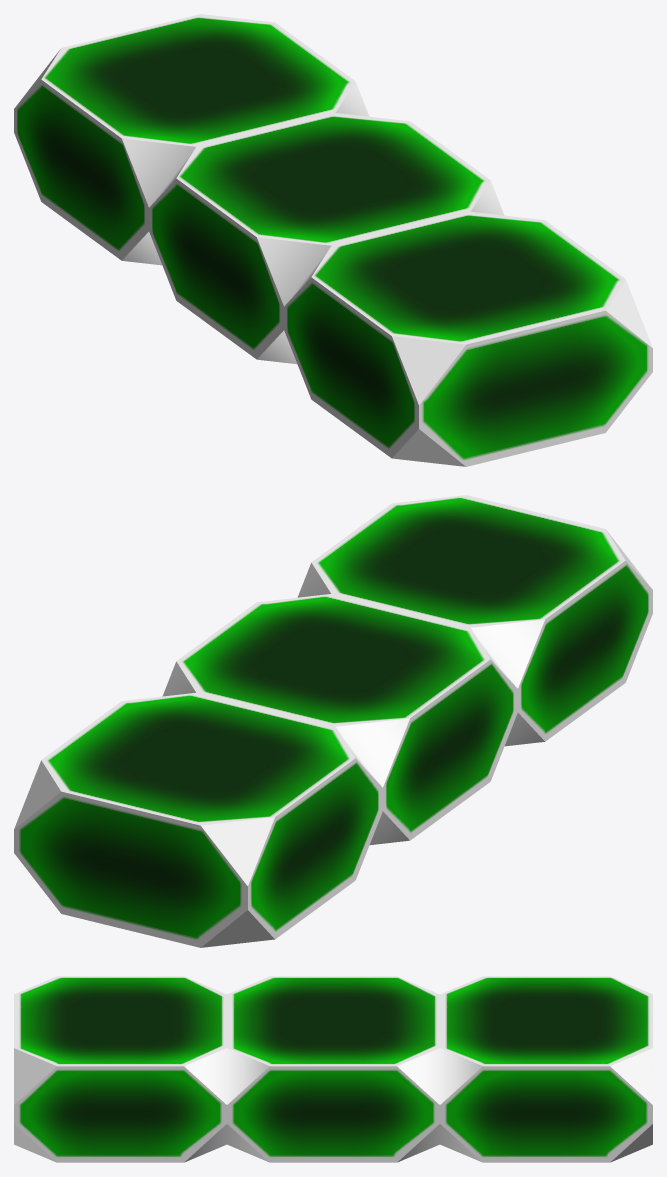
Rendered from MG-ChJ-CS-02BianKuai-3.FBX.
3 renders of one model, top to bottom at view 1: azimuth 30°, elevation 25°; view 2: azimuth 150°, elevation 25°; view 3: azimuth 270°, elevation 25°, orthographic. The views are drawn at different scales.
Visible parts, largest first — view 1: MG-ChJ-CS-02BianKuai-3; view 2: MG-ChJ-CS-02BianKuai-3; view 3: MG-ChJ-CS-02BianKuai-3.
Part boxes in pixels (x1,y1,x2,y2): MG-ChJ-CS-02BianKuai-3: (14,14,652,466); MG-ChJ-CS-02BianKuai-3: (14,495,652,947); MG-ChJ-CS-02BianKuai-3: (14,976,652,1162).
Bounding box in the file's own units: 39.37 × 19.69 × 118.
